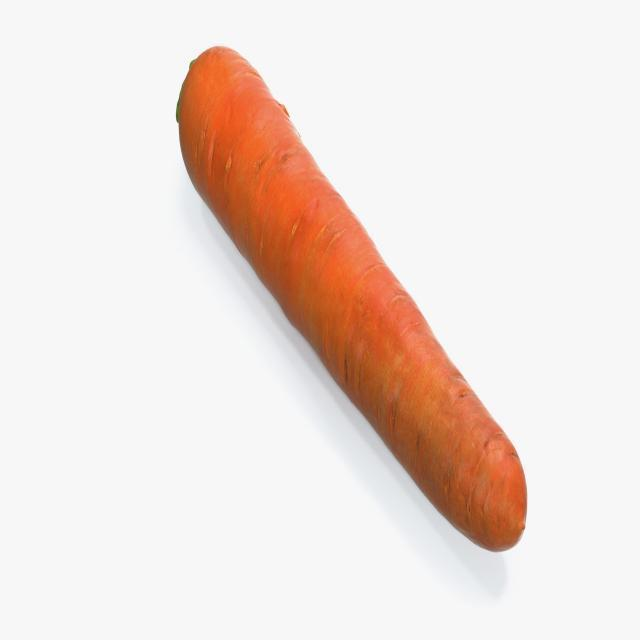carrot: (170, 41, 528, 554)
